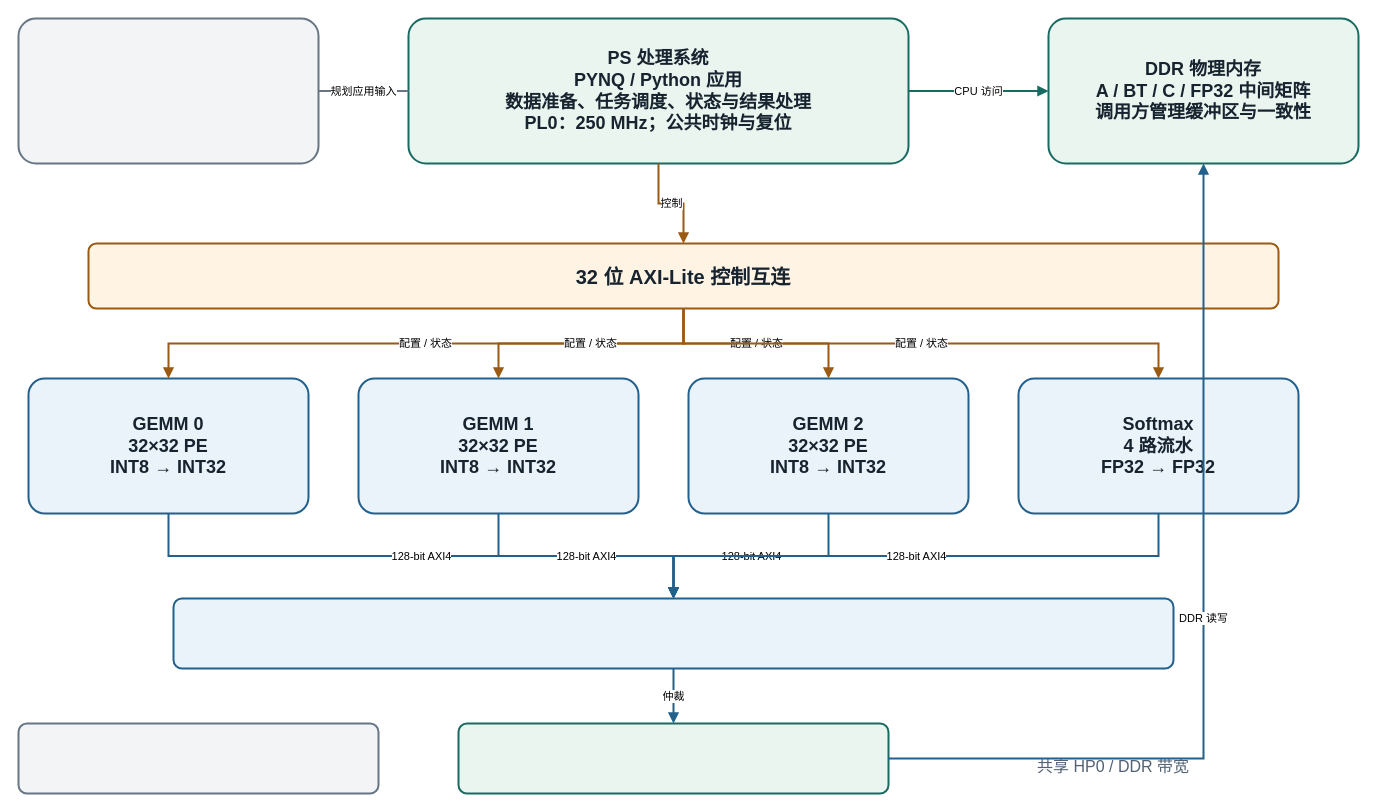
Image size: 1376x811. Some labels were removed from this diagram. The box of each missing label's shape, as (x1, y1, x2, y2) in pixels:
AXI SmartConnect：汇聚三个 GEMM 和 Softmax 的四个数据主接口: (172, 597, 1174, 669)
PS S_AXI_HP0_FPD 128 位共享数据接口: (457, 722, 889, 794)
应用输入与执行端 摄像头图像 / 自然语言 机器人状态 / SO-101 动作: (17, 17, 319, 164)
应用闭环待集成 尚未完成 SmolVLA 端到端推理: (17, 722, 379, 794)
